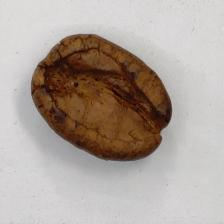NG: (46, 44, 154, 150)
